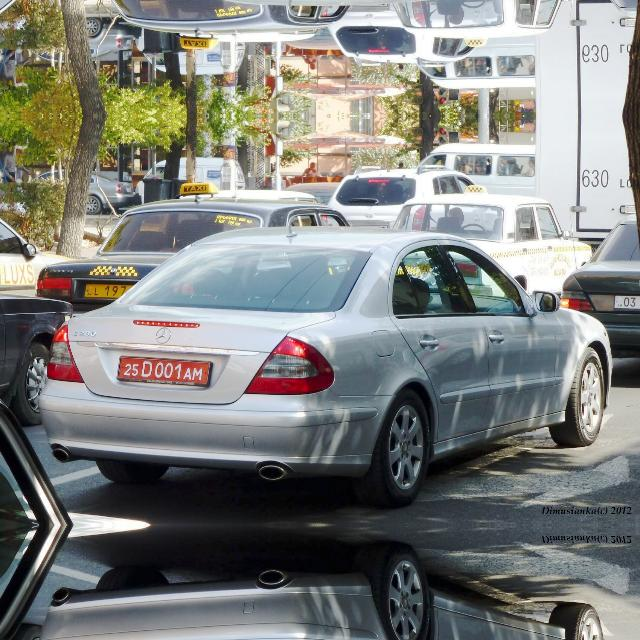diplomatic: (114, 352, 216, 391)
taxi: (82, 276, 136, 300)
